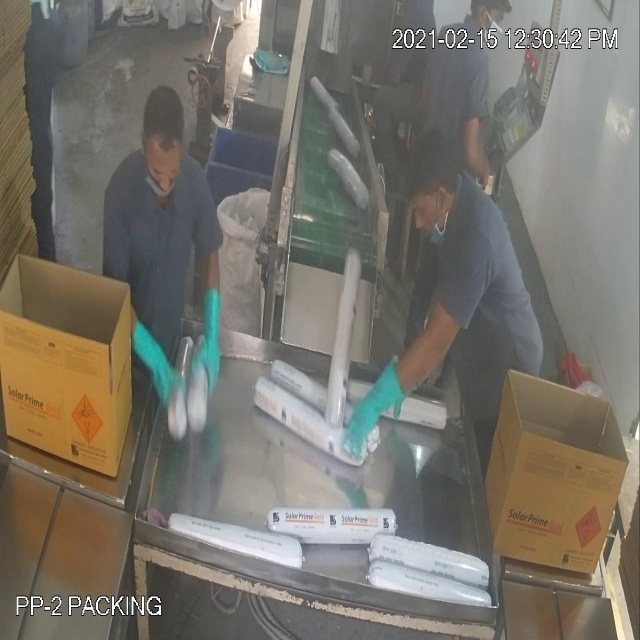Guantes: (333, 348, 414, 464), (114, 305, 184, 426), (185, 274, 232, 407)
Sin_guantes: (459, 98, 497, 197)
